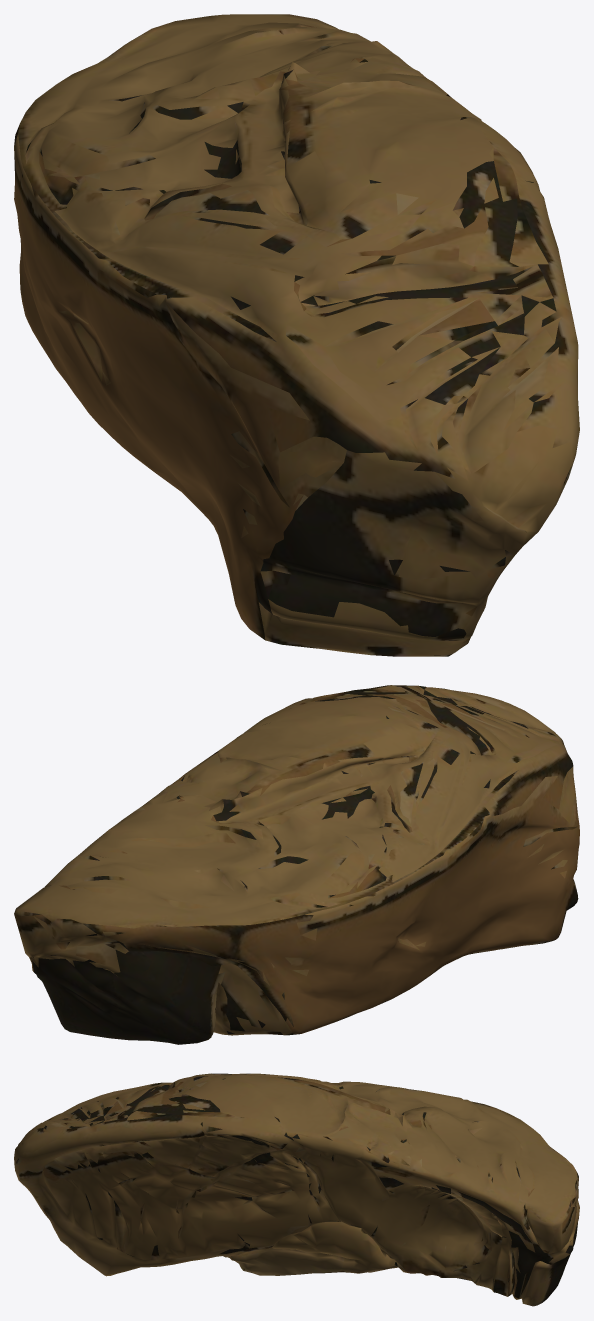
File: steak+cuit.glb
3 views of the same model, one above another, from view 1: azimuth 30°, elevation 25°; view 2: azimuth 150°, elevation 25°; view 3: azimuth 270°, elevation 25° (orthographic). The views are drawn at different scales.
Parts seen in each view (by area): view 1: tripo_part_0, tripo_part_2; view 2: tripo_part_0, tripo_part_4, tripo_part_2; view 3: tripo_part_0, tripo_part_1, tripo_part_2, tripo_part_4, tripo_part_3.
Part boxes in pixels (x1,y1,x2,y2): tripo_part_0: [14, 14, 579, 656]; tripo_part_2: [284, 57, 444, 94]; tripo_part_0: [14, 685, 579, 1035]; tripo_part_4: [32, 950, 225, 1044]; tripo_part_2: [163, 753, 284, 811]; tripo_part_0: [14, 1073, 579, 1298]; tripo_part_1: [227, 1221, 398, 1275]; tripo_part_2: [327, 1098, 412, 1153]; tripo_part_4: [514, 1222, 577, 1306]; tripo_part_3: [461, 1197, 503, 1236].
Bounding box in the file's own units: 0.5122 × 0.4057 × 0.9805.
1 material, 1 textured.
